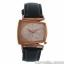watch: (18, 17, 48, 48)
